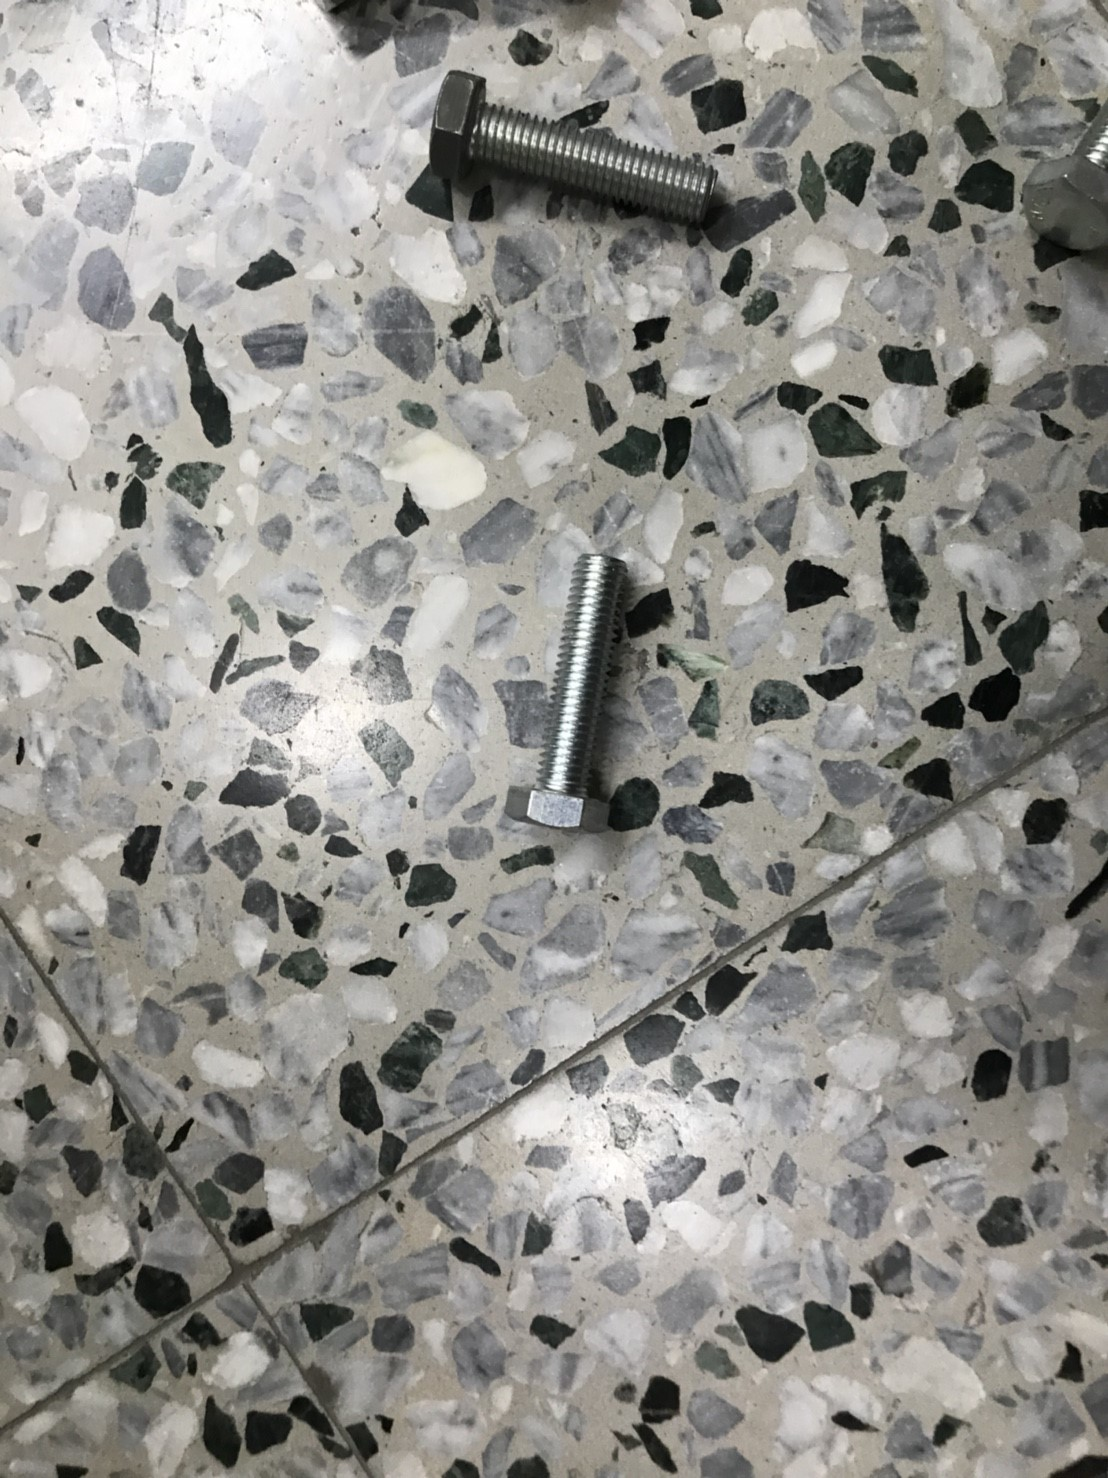screw: (400, 67, 730, 247), (506, 534, 632, 836)
